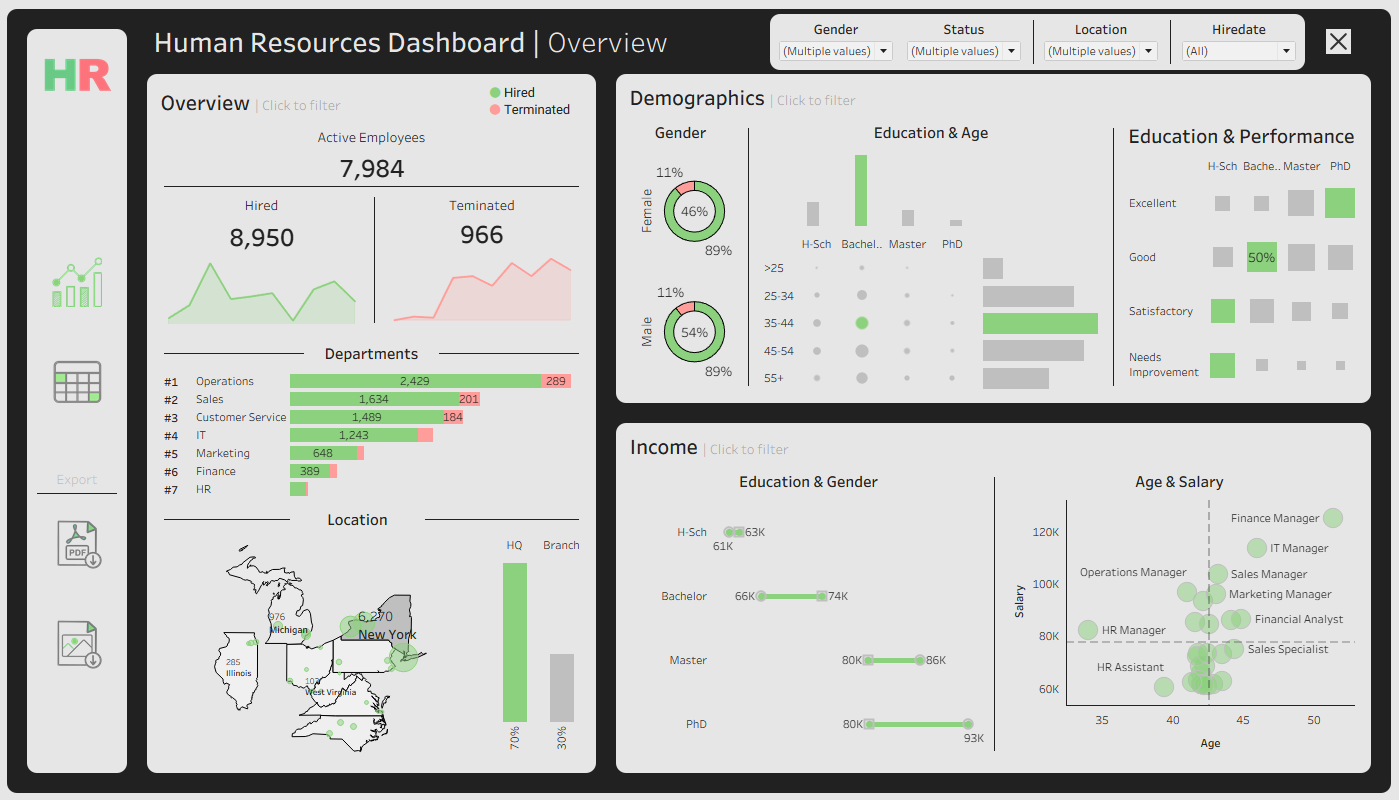

Layout of this report page (visuals, bound fields, positions):
{"tool":"tableau","page":{"name":"Summary Dashboard","canvas":[1400,800],"ordinal":1},"visuals":[{"type":"text","box":[148,8,1159,65]},{"type":"dashboard-object","box":[1307,8,65,65]},{"type":"filter","title":"Gender vs Education","param":"[federated.0yob5cm1xo00br10v5j7d03hux97].[none:Gender:nk]","box":[773,15,128.3,52]},{"type":"filter","title":"Gender vs Education","param":"[federated.0yob5cm1xo00br10v5j7d03hux97].[none:Calculation_0983581678112768:nk]","box":[901.2,15,128.3,52]},{"type":"blank","box":[1029.5,15,9,52]},{"type":"filter","title":"Gender vs Education","param":"[federated.0yob5cm1xo00br10v5j7d03hux97].[none:Calculation_0565766967013379:nk]","box":[1038.5,15,128.3,52]},{"type":"blank","box":[1166.7,15,9,52]},{"type":"filter","title":"Gender vs Education","param":"[federated.0yob5cm1xo00br10v5j7d03hux97].[yr:Hiredate:ok]","box":[1175.7,15,128.3,52]},{"type":"image","param":"Image/Logo.png","box":[28,28,100,92]},{"type":"text","box":[155,80,329,43]},{"type":"text","box":[484,80,106,43]},{"type":"text","box":[624,80,741,32]},{"type":"text","box":[624,117,115,29]},{"type":"blank","box":[749,117,1,278.5]},{"type":"text","box":[755,117,354,29]},{"type":"blank","box":[1114,117,1,278.5]},{"type":"text","box":[1120,117,245,34]},{"type":"blank","box":[28,120,100,111]},{"type":"text","box":[155,123,435,26]},{"type":"worksheet","title":"Gender Ratio","mark":"Pie","rows":["Gender"],"cols":["Calculation_0565766973345800","Calculation_0565766973345800"],"box":[624,146,115,249.5]},{"type":"worksheet","title":"Education Levels","mark":"Bar","rows":["Nr. Active Employees (copy)_0565766959542272"],"cols":["Education Level"],"box":[755,146,354,83]},{"type":"worksheet","title":"BAN Active","mark":"Text","box":[155,149,435,36]},{"type":"worksheet","title":"Education vs Performance","mark":"Square","rows":["Performance Rating"],"cols":["Education Level"],"box":[1120,151,245,244.5]},{"type":"blank","box":[155,185,435,1]},{"type":"blank","box":[375,186,1,146]},{"type":"text","box":[155,191,215,26]},{"type":"text","box":[381,191,204,26]},{"type":"worksheet","title":"BAN Hired","mark":"Text","box":[155,217,215,37]},{"type":"worksheet","title":"BAN Terminated","mark":"Text","box":[381,217,204,32]},{"type":"worksheet","title":"Age vs Education","mark":"Circle","rows":["Calculation_0565766976552970"],"cols":["Education Level"],"box":[755,229,225,166.5]},{"type":"worksheet","title":"Age Groups","mark":"Bar","rows":["Calculation_0565766976552970"],"cols":["Nr. Active Employees (copy)_0565766959542272"],"box":[980,229,129,166.5]},{"type":"dashboard-object","box":[28,231,100,100]},{"type":"worksheet","title":"Terminated by Year","mark":"Line","rows":["Nr. Active Employees (copy)_0451967388114946","Nr. Active Employees (copy)_0451967388114946"],"cols":["Termdate"],"box":[381,249,204,78]},{"type":"worksheet","title":"Hired by Year","mark":"Line","rows":["Nr. Active Employees (copy)_0565766959542272","Nr. Active Employees (copy)_0565766959542272"],"cols":["Hiredate"],"box":[155,254,215,73]},{"type":"dashboard-object","box":[28,331,100,100]},{"type":"blank","box":[165,337,140,30]},{"type":"text","box":[305,337,135,30]},{"type":"blank","box":[440,337,140,30]},{"type":"worksheet","title":"Departments","mark":"Bar","rows":["Calculation_0565766965854210","Department"],"cols":["Nr. Active Employees (copy)_0565766959542272"],"box":[155,367,435,134]},{"type":"text","box":[624,429.5,741,32]},{"type":"blank","box":[28,431,100,29]},{"type":"text","box":[28,460,100,32]},{"type":"text","box":[629,466.5,361,29]},{"type":"blank","box":[995,466.5,1,293.5]},{"type":"text","box":[1001,466.5,359,29]},{"type":"blank","box":[28,492,100,1]},{"type":"dashboard-object","box":[28,493,100,100]},{"type":"worksheet","title":"Gender vs Education","mark":"Shape","rows":["Education Level"],"cols":["Salary","Salary"],"box":[629,495.5,361,264.5]},{"type":"worksheet","title":"Age vs Salary","mark":"Circle","rows":["Salary"],"cols":["Calculation_0565766975242249"],"box":[1001,495.5,359,264.5]},{"type":"blank","box":[165,506,126,24]},{"type":"text","box":[291,506,135,24]},{"type":"blank","box":[426,506,154,24]},{"type":"worksheet","title":"Map State","mark":"Automatic","box":[155,530,333,235]},{"type":"worksheet","title":"Location","mark":"Bar","rows":["Nr. Active Employees (copy)_0565766959542272"],"cols":["Calculation_0565766967013379"],"box":[488,530,102,235]},{"type":"dashboard-object","box":[28,593,100,100]}]}

Visuals, with their boxes in screenshot pixels (x1, y1, x2, y2), scaled from the page's 1400x800 canvas onto the 1399x800 screenshot:
text: 148, 8, 1306, 73
dashboard-object: 1306, 8, 1371, 73
"Gender vs Education" filter: 772, 15, 901, 67
"Gender vs Education" filter: 901, 15, 1029, 67
blank: 1029, 15, 1038, 67
"Gender vs Education" filter: 1038, 15, 1166, 67
blank: 1166, 15, 1175, 67
"Gender vs Education" filter: 1175, 15, 1303, 67
image: 28, 28, 128, 120
text: 155, 80, 484, 123
text: 484, 80, 590, 123
text: 624, 80, 1364, 112
text: 624, 117, 738, 146
blank: 748, 117, 749, 396
text: 754, 117, 1108, 146
blank: 1113, 117, 1114, 396
text: 1119, 117, 1364, 151
blank: 28, 120, 128, 231
text: 155, 123, 590, 149
"Gender Ratio" worksheet (Pie marks): 624, 146, 738, 396
"Education Levels" worksheet (Bar marks): 754, 146, 1108, 229
"BAN Active" worksheet (Text marks): 155, 149, 590, 185
"Education vs Performance" worksheet (Square marks): 1119, 151, 1364, 396
blank: 155, 185, 590, 186
blank: 375, 186, 376, 332
text: 155, 191, 370, 217
text: 381, 191, 585, 217
"BAN Hired" worksheet (Text marks): 155, 217, 370, 254
"BAN Terminated" worksheet (Text marks): 381, 217, 585, 249
"Age vs Education" worksheet (Circle marks): 754, 229, 979, 396
"Age Groups" worksheet (Bar marks): 979, 229, 1108, 396
dashboard-object: 28, 231, 128, 331
"Terminated by Year" worksheet (Line marks): 381, 249, 585, 327
"Hired by Year" worksheet (Line marks): 155, 254, 370, 327
dashboard-object: 28, 331, 128, 431
blank: 165, 337, 305, 367
text: 305, 337, 440, 367
blank: 440, 337, 580, 367
"Departments" worksheet (Bar marks): 155, 367, 590, 501
text: 624, 430, 1364, 462
blank: 28, 431, 128, 460
text: 28, 460, 128, 492
text: 629, 466, 989, 496
blank: 994, 466, 995, 760
text: 1000, 466, 1359, 496
blank: 28, 492, 128, 493
dashboard-object: 28, 493, 128, 593
"Gender vs Education" worksheet (Shape marks): 629, 496, 989, 760
"Age vs Salary" worksheet (Circle marks): 1000, 496, 1359, 760
blank: 165, 506, 291, 530
text: 291, 506, 426, 530
blank: 426, 506, 580, 530
"Map State" worksheet: 155, 530, 488, 765
"Location" worksheet (Bar marks): 488, 530, 590, 765
dashboard-object: 28, 593, 128, 693
